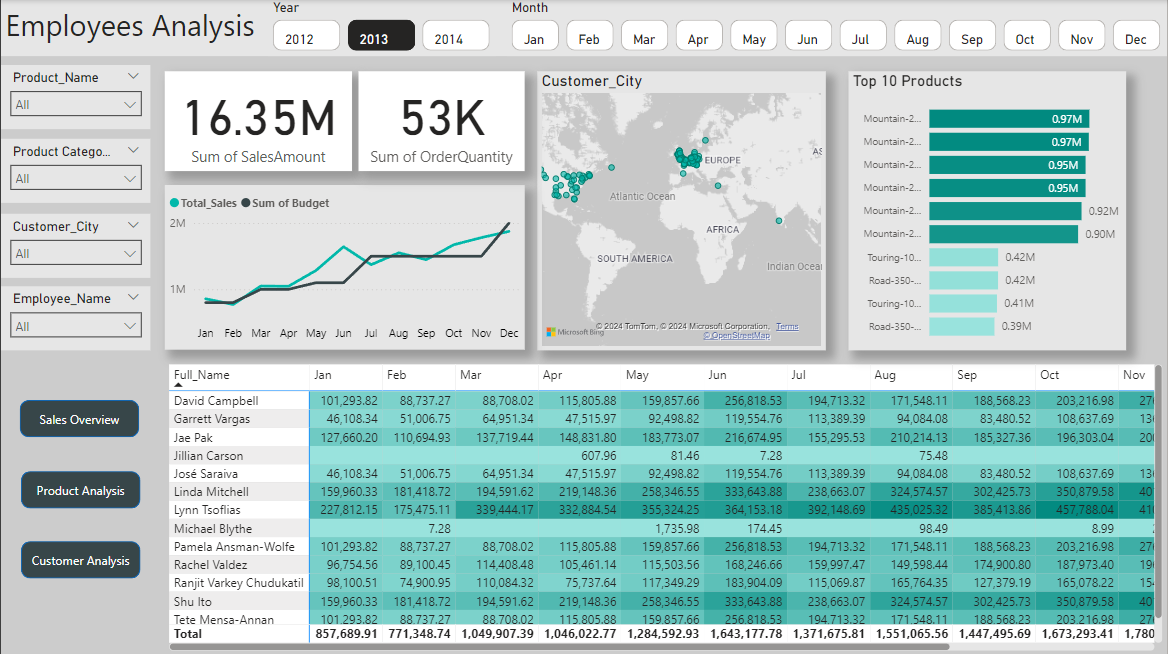

Layout of this report page (visuals, bound fields, positions):
{"tool":"powerbi","page":{"name":"Employees Analysis","canvas":[1280,720],"ordinal":3},"visuals":[{"type":"textbox","box":[0,0,1280,61.4],"z":0},{"type":"advancedSlicerVisual","fields":{"Values":["DIM_Date.Year"]},"box":[293.7,0,249.7,61.7],"z":1000},{"type":"advancedSlicerVisual","fields":{"Values":["Sorted_Months.Month"]},"box":[555.7,0,724.5,61.7],"z":2000},{"type":"slicer","fields":{"Values":["DIM_Products.Product_Name"]},"box":[0,71.4,164.3,70],"z":3000},{"type":"slicer","fields":{"Values":["DIM_Cusomers.Customer_City"]},"box":[0,234.3,164.3,70],"z":4000},{"type":"slicer","fields":{"Values":["DIM_Employees.Full_Name"]},"box":[0,314.3,164.3,70],"z":5000},{"type":"slicer","fields":{"Values":["DIM_Products.Category"]},"box":[0,152.9,164.3,70],"z":6000},{"type":"card","title":"Total Sales","fields":{"Values":["Sum(Fact_Internet_Sales.SalesAmount)"]},"box":[179.8,78.2,205.8,109.8],"z":7000},{"type":"map","fields":{"Category":["DIM_Cusomers.Customer_City"]},"box":[588.7,78.2,317,306],"z":8000},{"type":"lineChart","fields":{"Category":["Sorted_Months.Month"],"Y":["Fact_Internet_Sales.Total_Sales"],"Y2":["Sum(Budget.Budget)"]},"box":[179.8,203.1,395.2,181.1],"z":9000},{"type":"card","fields":{"Values":["Sum(Fact_Internet_Sales.OrderQuantity)"]},"box":[392.5,78.2,182.5,109.8],"z":10000},{"type":"pivotTable","fields":{"Columns":["Sorted_Months.Month"],"Values":["Fact_Internet_Sales.Total_Sales"],"Rows":["DIM_Employees.Full_Name"]},"box":[180,395.7,1100,324.3],"z":11000},{"type":"clusteredBarChart","title":"Top 10 Products","fields":{"Y":["Fact_Internet_Sales.Total_Sales"],"Category":["DIM_Products.Product_Name"]},"box":[930.4,78.2,304.6,306],"z":12000},{"type":"shape","box":[22.1,517.4,131.1,40.9],"z":13000},{"type":"shape","box":[22.1,594,131.1,40.9],"z":14000},{"type":"shape","box":[20.4,439.1,131.1,40.9],"z":15000}]}

Visuals, with their boxes in screenshot pixels (x1, y1, x2, y2), scaled from the page's 1280x720 canvas onto the 1168x654 screenshot:
textbox: <region>0, 0, 1167, 56</region>
advancedSlicerVisual - DIM_Date.Year: <region>268, 0, 496, 56</region>
advancedSlicerVisual - Sorted_Months.Month: <region>507, 0, 1167, 56</region>
slicer - DIM_Products.Product_Name: <region>0, 65, 150, 128</region>
slicer - DIM_Cusomers.Customer_City: <region>0, 213, 150, 276</region>
slicer - DIM_Employees.Full_Name: <region>0, 285, 150, 349</region>
slicer - DIM_Products.Category: <region>0, 139, 150, 202</region>
"Total Sales" card: <region>164, 71, 352, 171</region>
map - DIM_Cusomers.Customer_City: <region>537, 71, 826, 349</region>
lineChart - Sorted_Months.Month x Fact_Internet_Sales.Total_Sales: <region>164, 184, 525, 349</region>
card - Sum(Fact_Internet_Sales.OrderQuantity): <region>358, 71, 525, 171</region>
pivotTable - Sorted_Months.Month x Fact_Internet_Sales.Total_Sales: <region>164, 359, 1167, 653</region>
"Top 10 Products" clusteredBarChart: <region>849, 71, 1127, 349</region>
shape: <region>20, 470, 140, 507</region>
shape: <region>20, 540, 140, 577</region>
shape: <region>19, 399, 138, 436</region>
